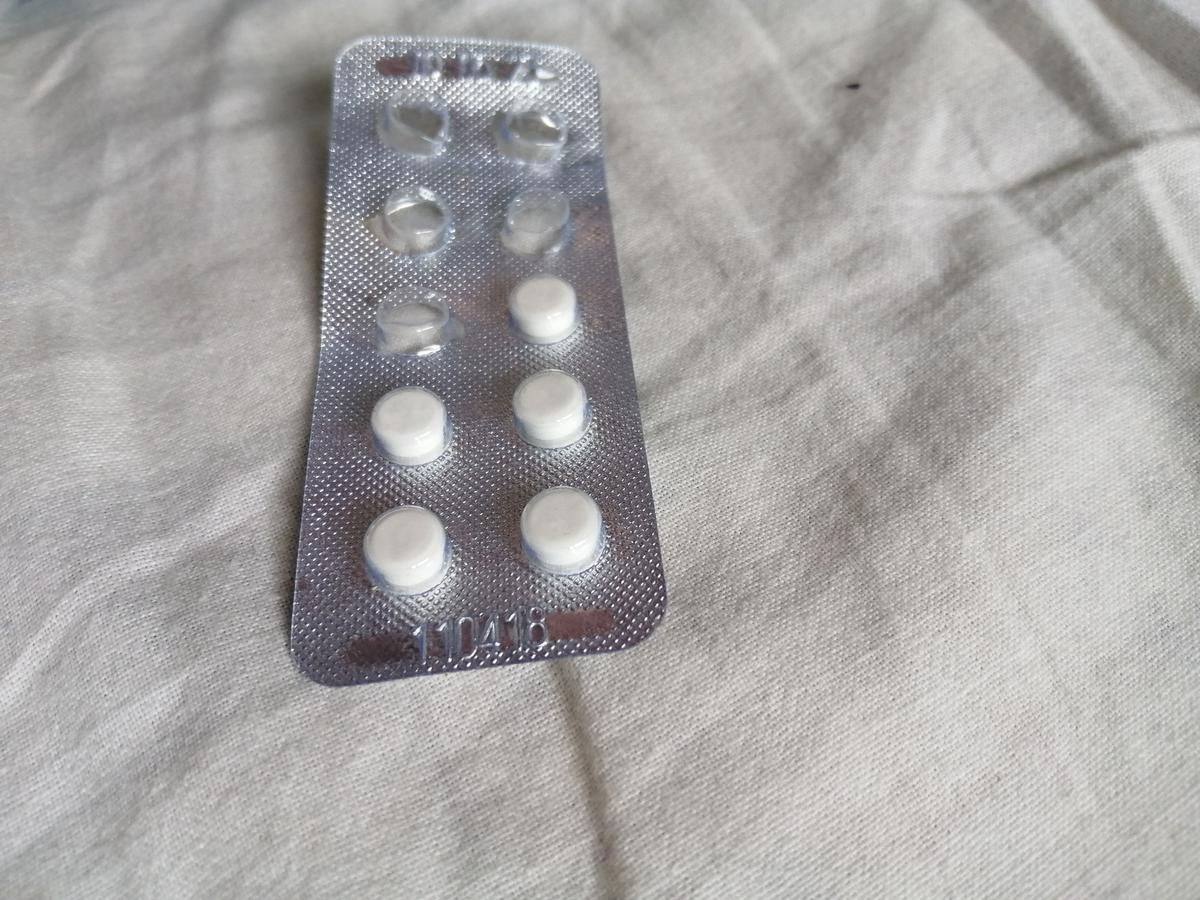tablet: (515, 483, 609, 569), (359, 507, 450, 589), (511, 366, 593, 449), (366, 386, 451, 458), (505, 274, 580, 343)
